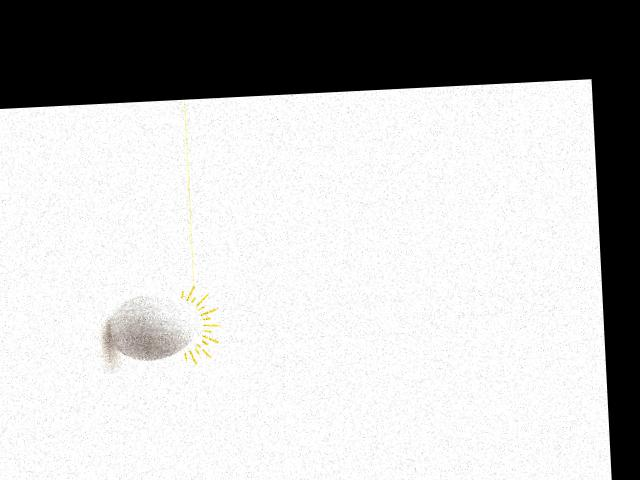egg: (108, 291, 197, 361)
